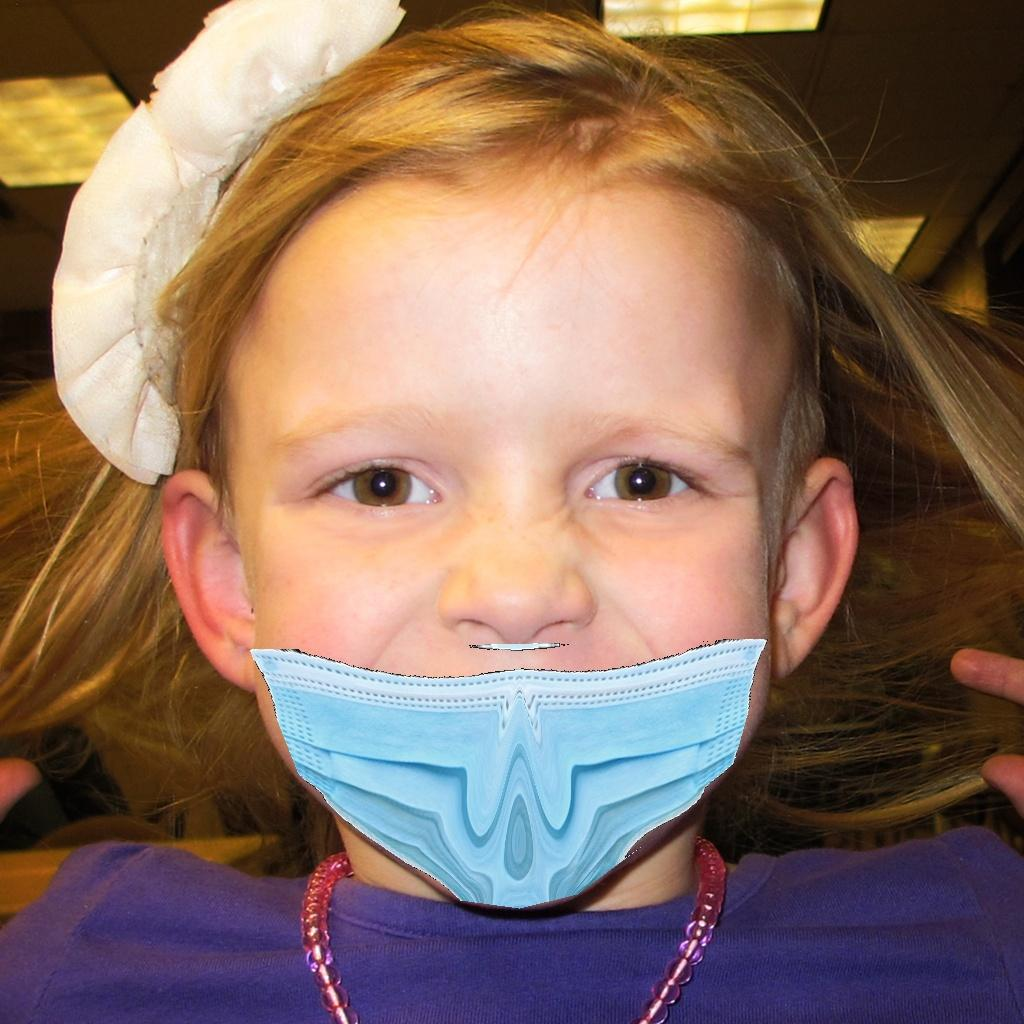Máscara Incorreta: (218, 282, 792, 878)
